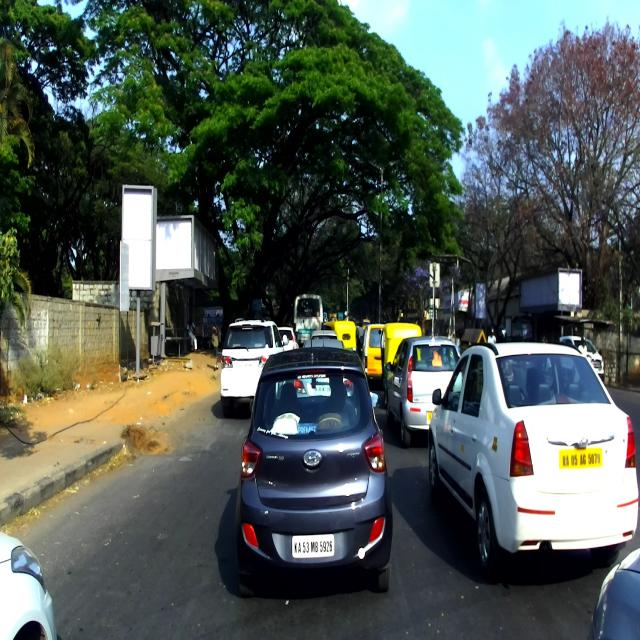autorickshaw: (377, 322, 421, 406), (324, 320, 356, 354)
bus: (294, 292, 323, 344), (329, 313, 337, 324), (323, 312, 328, 324)
car: (428, 343, 638, 574), (234, 346, 393, 600), (385, 335, 461, 448), (219, 315, 288, 417), (0, 532, 56, 640), (559, 335, 604, 386), (360, 323, 385, 388), (277, 326, 298, 351), (302, 339, 344, 350), (310, 329, 338, 342)
